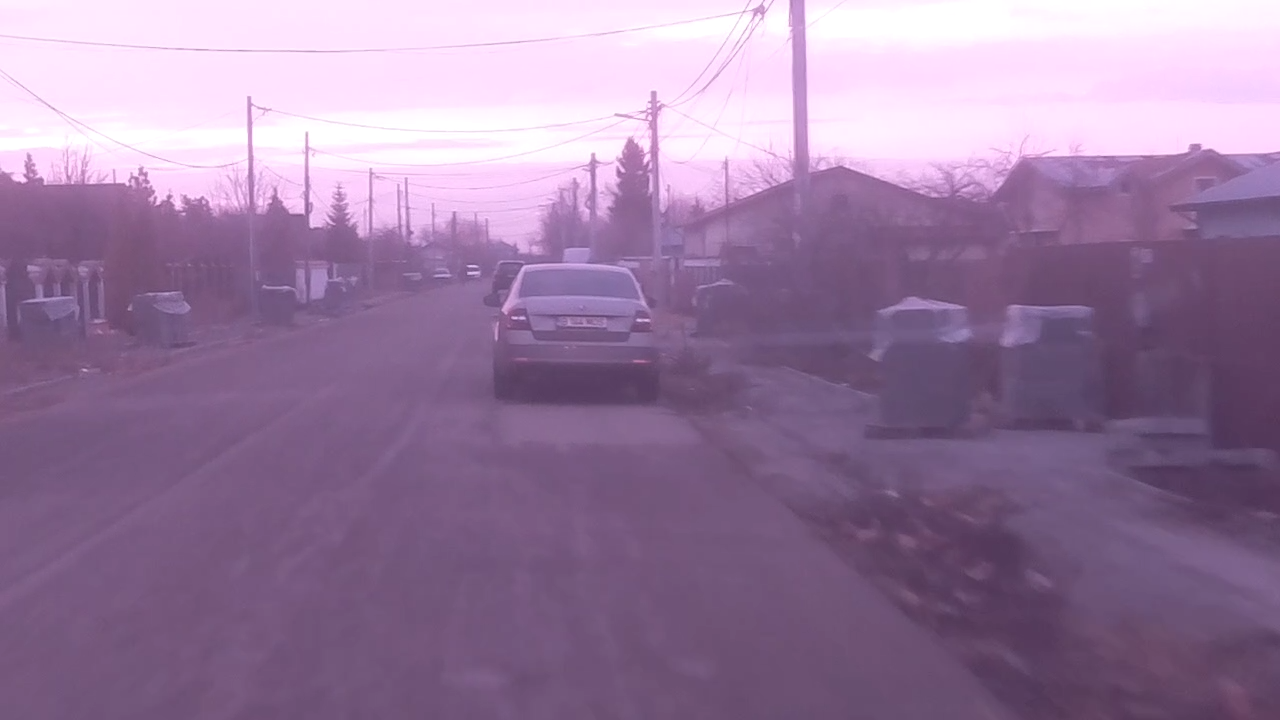license-plate: (555, 314, 608, 328)
